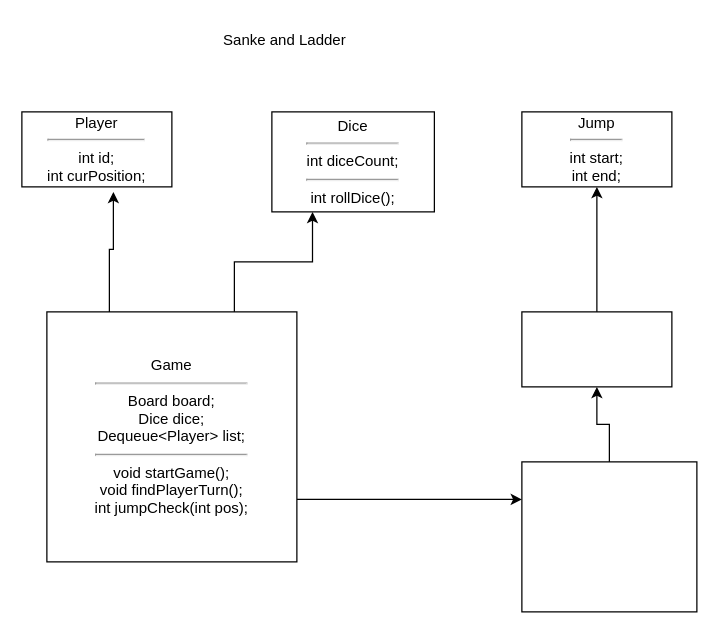
Image size: 719x634. Some labels were removed from this diagram. The box of each missing label's shape, as (x1, y1, x2, y2) in pixels:
Board cell[][] board; addSnakesAndLadder(); getCell(int val);: (521, 461, 697, 612)
Cell Jump jump;: (521, 311, 672, 387)
